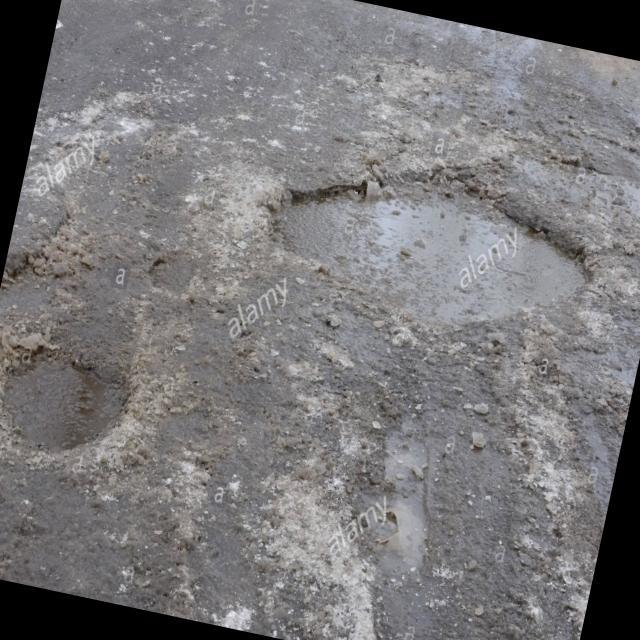Pothole: (247, 124, 640, 330), (0, 227, 228, 519)
